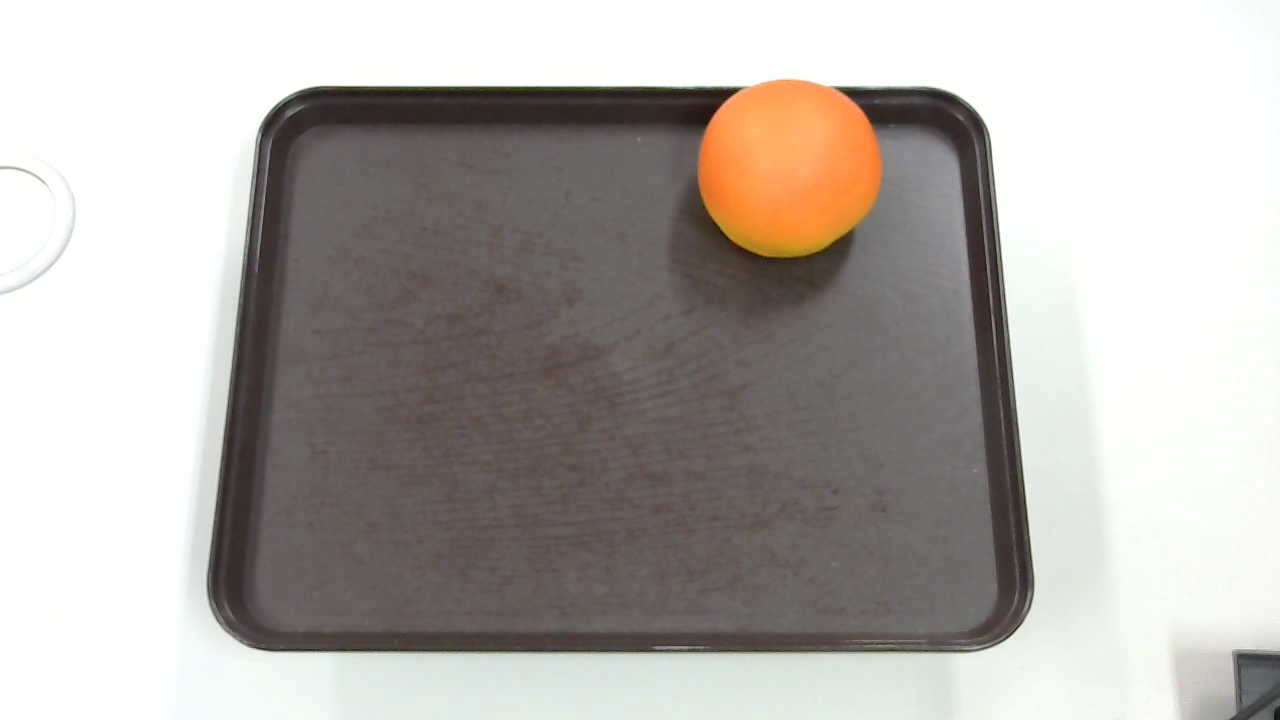bun: (696, 79, 882, 258)
